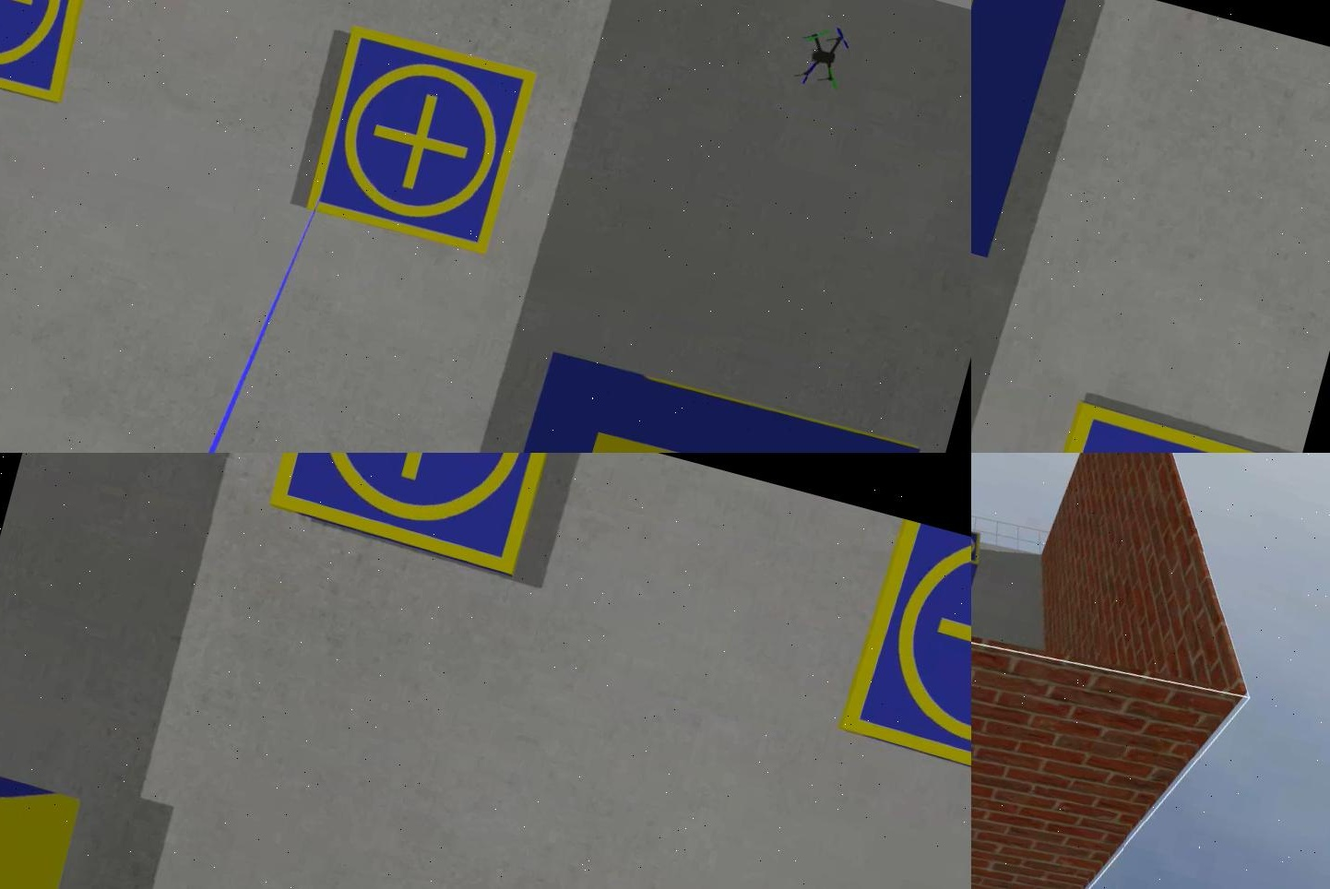large_base: (455, 349, 918, 454)
small_base: (296, 18, 538, 266), (834, 516, 970, 801), (265, 454, 558, 575), (1000, 397, 1300, 454), (0, 1, 113, 110), (970, 516, 985, 568)
